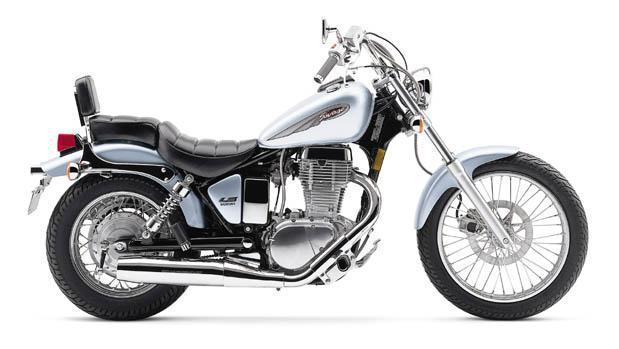motorcycle: (22, 7, 617, 335)
